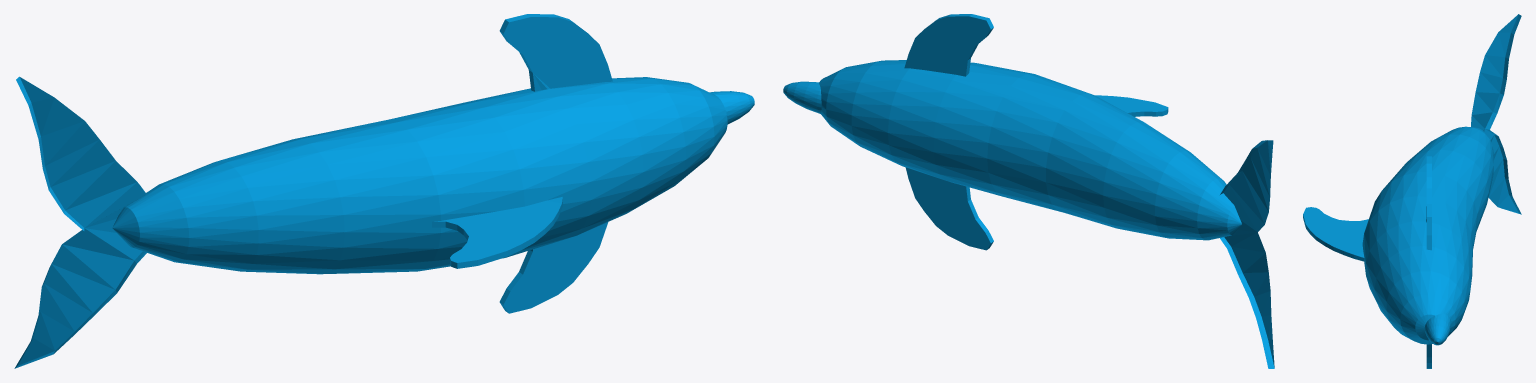
File: DOLPHIN2.glb
3 views of the same model, side by side, from view 1: azimuth 30°, elevation 25°; view 2: azimuth 150°, elevation 25°; view 3: azimuth 270°, elevation 25° (orthographic). The views are drawn at different scales.
Visible parts, largest first — view 1: _0; view 2: _0; view 3: _0.
Boxes of the visible parts, <box> form: _0: <box>14,14,754,368</box>; _0: <box>783,14,1274,368</box>; _0: <box>1303,14,1521,368</box>.
Size of the model in its own units: 7.38 by 3.01 by 2.97.
